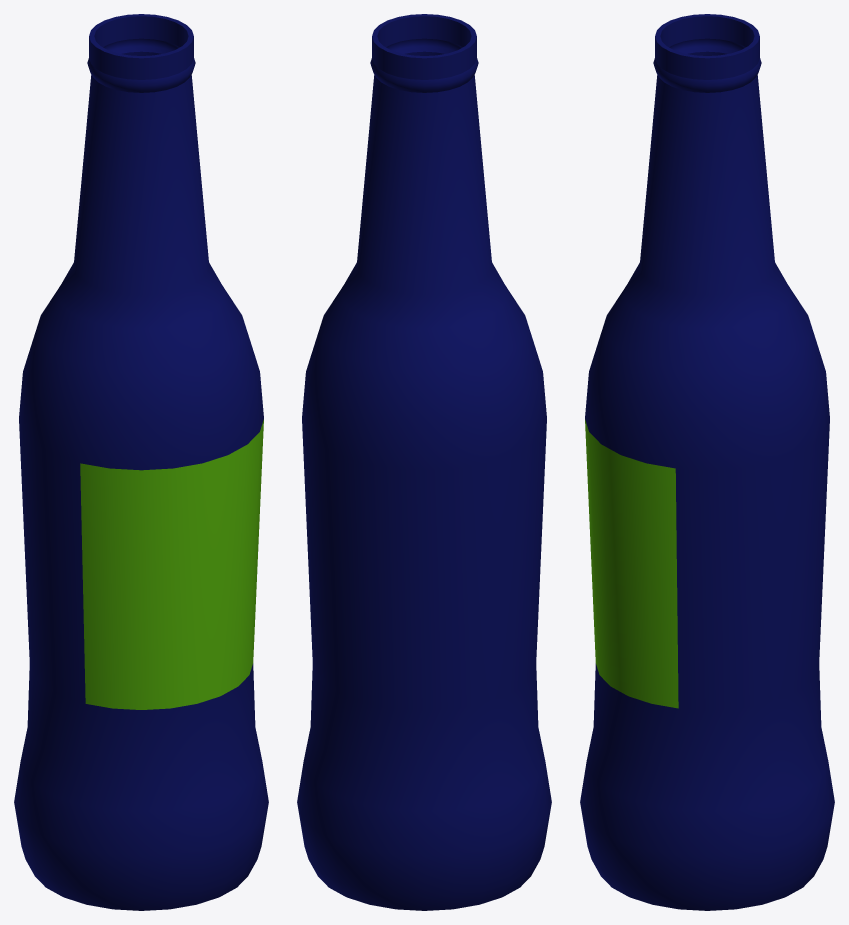
The model's file is Bottle1.FBX.
3 renders of one model, left to right at view 1: azimuth 30°, elevation 25°; view 2: azimuth 150°, elevation 25°; view 3: azimuth 270°, elevation 25°, orthographic.
Visible parts, largest first — view 1: Bottle; view 2: Bottle; view 3: Bottle.
Boxes of the visible parts, x1=… form: Bottle: x1=14, y1=14, x2=268, y2=910; Bottle: x1=297, y1=14, x2=551, y2=910; Bottle: x1=580, y1=14, x2=834, y2=910.
Bounding box in the file's own units: 76.79 × 76.79 × 275.
